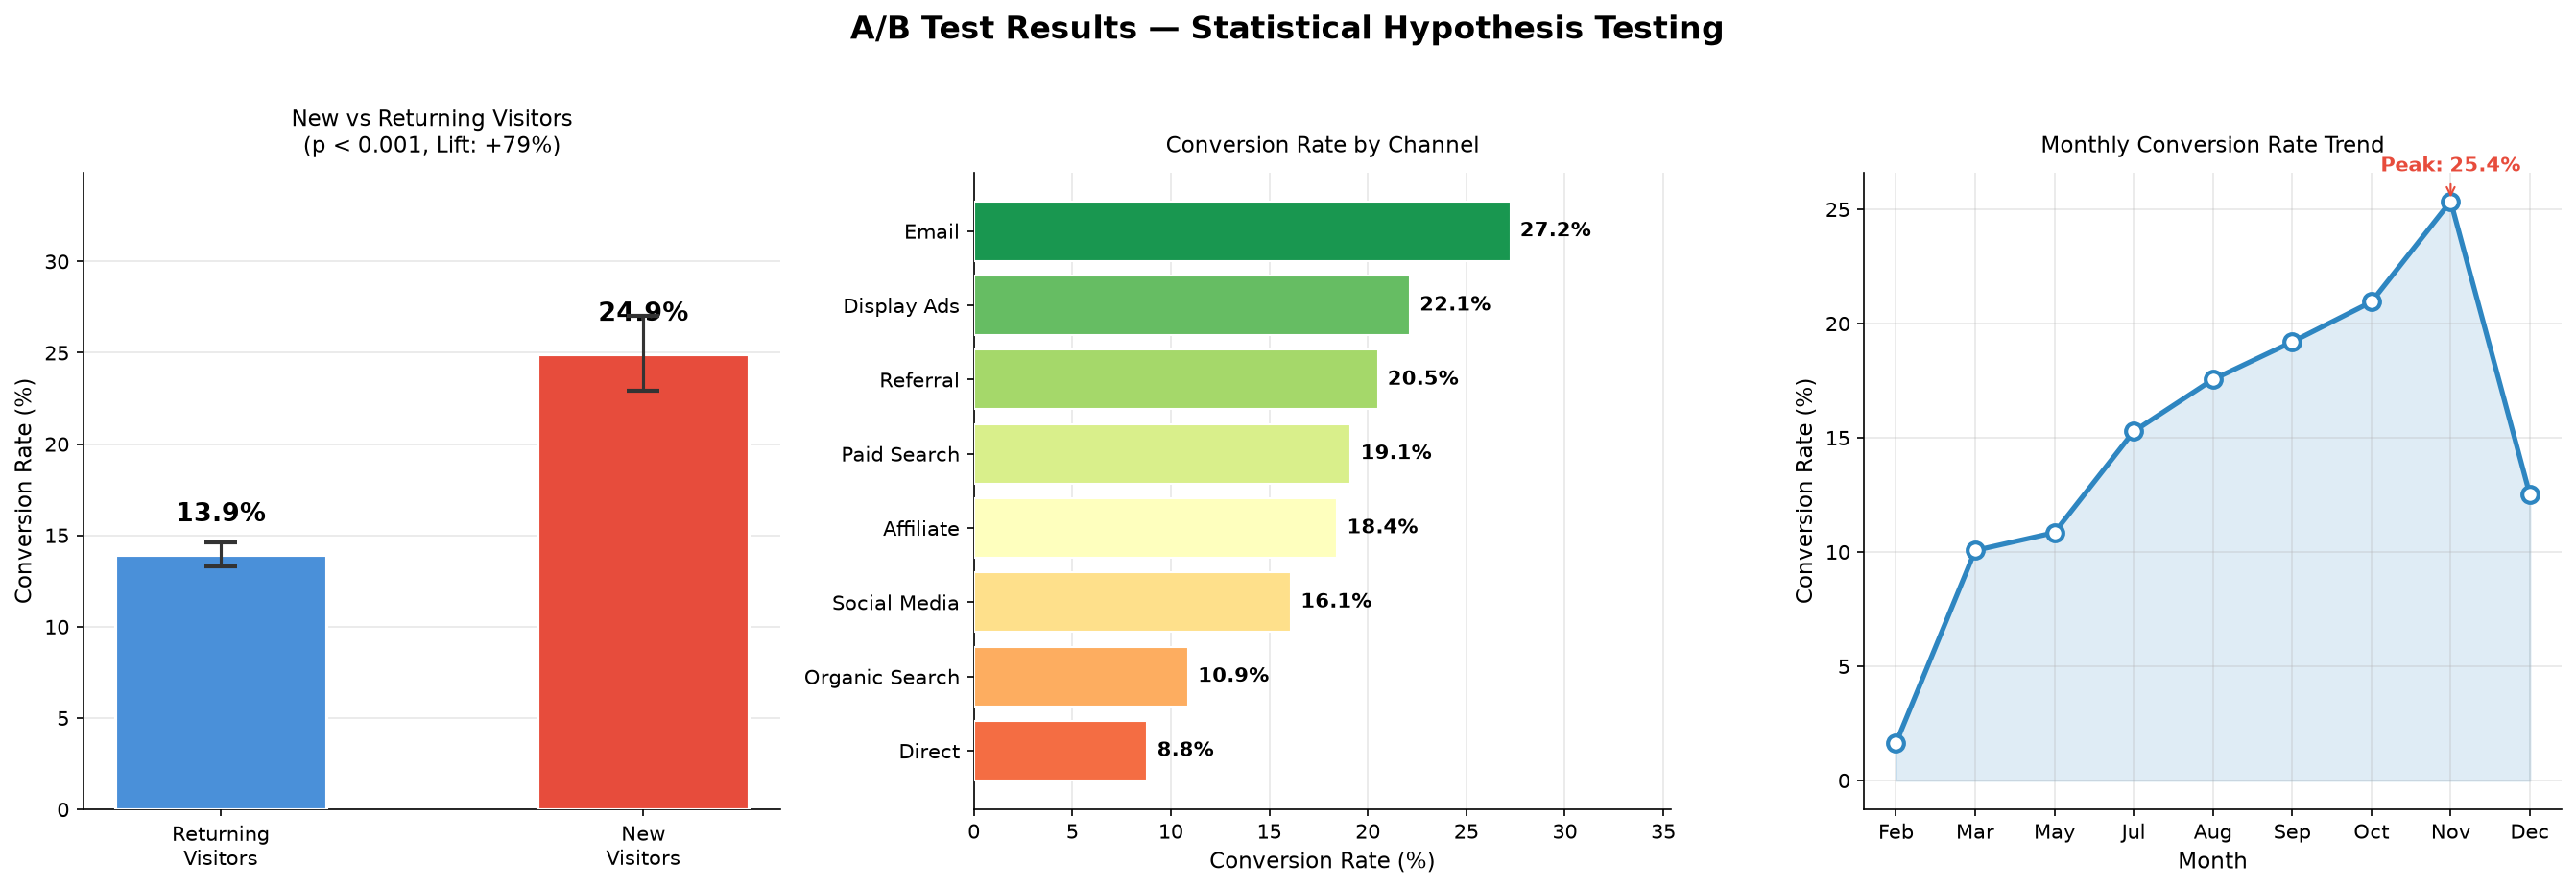

Layout of this report page (visuals, bound fields, positions):
{"tool":"powerbi","page":{"name":"A/B TESTING AND SESSION FUNNEL","canvas":[1280,720],"ordinal":1},"visuals":[{"type":"textbox","box":[251.3,0,674.7,64.3],"z":0},{"type":"cardVisual","fields":{"Data":["Measure_table.New Visitor Conversion Rate %"]},"box":[83.2,88.8,294.8,119.1],"z":1},{"type":"cardVisual","fields":{"Data":["Measure_table.Returning Visitor Conversion Rate %"]},"box":[448.1,89.6,282.8,117.5],"z":2},{"type":"cardVisual","fields":{"Data":["Measure_table.A/B Test Lift %"]},"box":[838.5,89.6,290.8,119.5],"z":3},{"type":"clusteredColumnChart","fields":{"Category":["marketing_analytics sessions.visitor_segment"],"Y":["Measure_table.Conversion Rate %"]},"box":[54.8,283.5,565,385.5],"z":4},{"type":"donutChart","fields":{"Category":["marketing_analytics sessions.day_type"],"Y":["Measure_table.Total Conversions"]},"box":[705.1,282.8,505.9,386.4],"z":5}]}

Visuals, with their boxes on the page's 1280x720 design canvas (x1, y1, x2, y2). These are canvas units, not pixel positions in the 2576x888 screenshot, which may show the page scaled, cropped or inside an application window:
textbox: (x1=251, y1=0, x2=926, y2=64)
cardVisual - Measure_table.New Visitor Conversion Rate %: (x1=83, y1=89, x2=378, y2=208)
cardVisual - Measure_table.Returning Visitor Conversion Rate %: (x1=448, y1=90, x2=731, y2=207)
cardVisual - Measure_table.A/B Test Lift %: (x1=838, y1=90, x2=1129, y2=209)
clusteredColumnChart - marketing_analytics sessions.visitor_segment x Measure_table.Conversion Rate %: (x1=55, y1=284, x2=620, y2=669)
donutChart - marketing_analytics sessions.day_type x Measure_table.Total Conversions: (x1=705, y1=283, x2=1211, y2=669)
